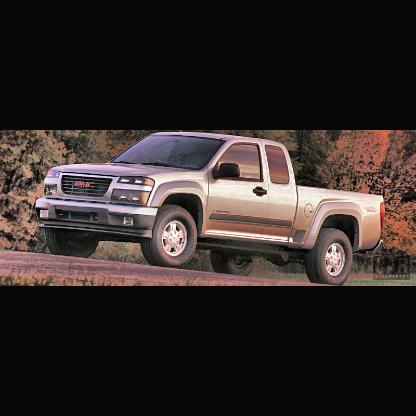GMC Canyon Extended Cab 2012: (37, 132, 386, 286)
